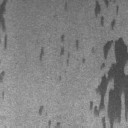red iron: (60, 0, 128, 128), (0, 0, 8, 48), (0, 70, 5, 99), (48, 120, 61, 128), (39, 46, 44, 61), (38, 105, 44, 115), (64, 0, 68, 11), (59, 76, 62, 82)
